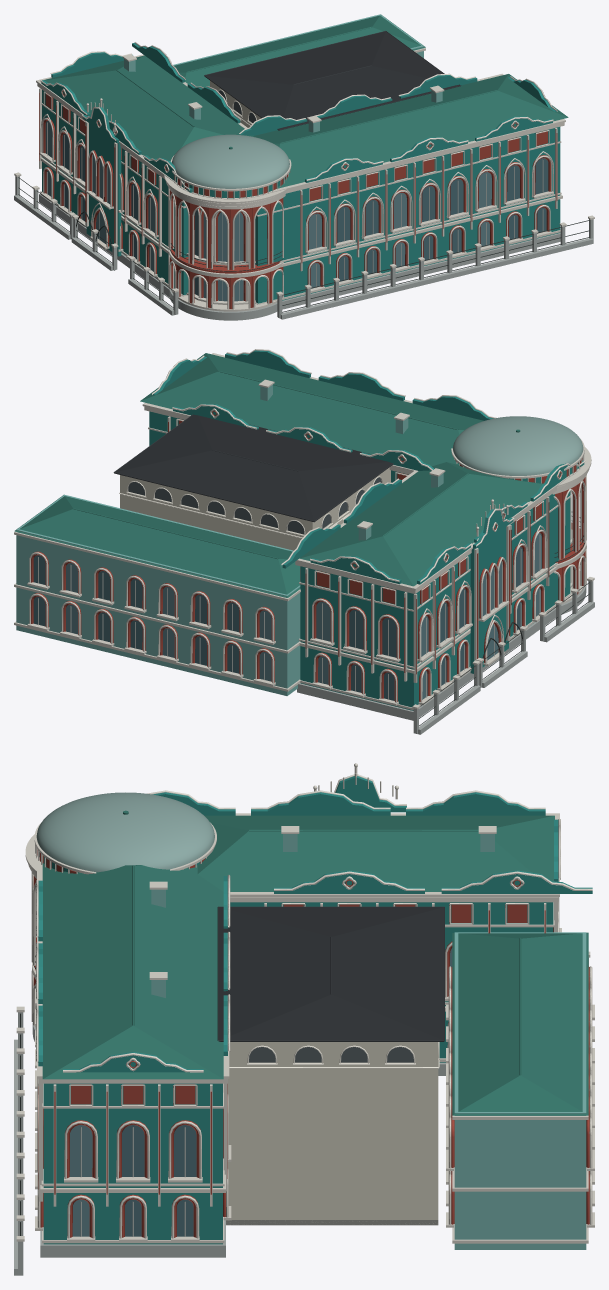
The model's file is sevastyanov-house-lod.glb.
3 renders of one model, top to bottom at view 1: azimuth 30°, elevation 25°; view 2: azimuth 150°, elevation 25°; view 3: azimuth 270°, elevation 25°, orthographic. The views are drawn at different scales.
Parts seen in each view (by area): view 1: SevastyanovExterior | Warm white | sculpted stucco, SevastyanovExterior | Malachite turquoise | painted masonry, SevastyanovExterior | Patinated turquoise | standing seam ro, SevastyanovExterior | Terracotta coral | recessed ornamental, SevastyanovModernHall | HALL | anthracite low pitch roof, SevastyanovExterior | Pale Ural granite | plinth, SevastyanovExterior | Blue grey | alternate reflection, SevastyanovExterior | Blue grey | architectural glazing, SevastyanovExterior | Grey green | rotunda metal dome, SevastyanovExterior | Graphite | wrought iron, SevastyanovExterior | Pale green | courtyard walls, SevastyanovModernHall | HALL | grey roof edge and seam caps (+1 smaller); view 2: SevastyanovExterior | Patinated turquoise | standing seam ro, SevastyanovExterior | Warm white | sculpted stucco, SevastyanovExterior | Malachite turquoise | painted masonry, SevastyanovExterior | Pale green | courtyard walls, SevastyanovModernHall | HALL | anthracite low pitch roof, SevastyanovExterior | Terracotta coral | recessed ornamental, SevastyanovExterior | Blue grey | architectural glazing, SevastyanovExterior | Grey green | rotunda metal dome, SevastyanovModernHall | HALL | pale cream mineral stucco, SevastyanovExterior | Pale Ural granite | plinth, SevastyanovExterior | Blue grey | alternate reflection, SevastyanovModernHall | HALL | recessed neutral grey glazing (+3 smaller); view 3: SevastyanovExterior | Patinated turquoise | standing seam ro, SevastyanovModernHall | HALL | pale cream mineral stucco, SevastyanovExterior | Malachite turquoise | painted masonry, SevastyanovModernHall | HALL | anthracite low pitch roof, SevastyanovExterior | Warm white | sculpted stucco, SevastyanovExterior | Pale green | courtyard walls, SevastyanovExterior | Grey green | rotunda metal dome, SevastyanovExterior | Terracotta coral | recessed ornamental, SevastyanovExterior | Pale Ural granite | plinth, SevastyanovExterior | Blue grey | architectural glazing, SevastyanovExterior | Blue grey | alternate reflection, SevastyanovModernHall | HALL | recessed neutral grey glazing (+3 smaller).
Part boxes in pixels (x1,y1,x2,y2): SevastyanovExterior | Warm white | sculpted stucco: (14, 42, 594, 311); SevastyanovExterior | Malachite turquoise | painted masonry: (41, 43, 560, 303); SevastyanovExterior | Patinated turquoise | standing seam ro: (44, 14, 568, 188); SevastyanovExterior | Terracotta coral | recessed ornamental: (39, 90, 557, 309); SevastyanovModernHall | HALL | anthracite low pitch roof: (204, 31, 459, 130); SevastyanovExterior | Pale Ural granite | plinth: (14, 176, 593, 320); SevastyanovExterior | Blue grey | alternate reflection: (45, 121, 491, 301); SevastyanovExterior | Blue grey | architectural glazing: (62, 133, 548, 281); SevastyanovExterior | Grey green | rotunda metal dome: (172, 134, 289, 188); SevastyanovExterior | Graphite | wrought iron: (18, 177, 589, 312); SevastyanovExterior | Pale green | courtyard walls: (124, 14, 442, 132); SevastyanovModernHall | HALL | grey roof edge and seam caps: (204, 31, 460, 130); SevastyanovExterior | Patinated turquoise | standing seam ro: (14, 353, 542, 597); SevastyanovExterior | Warm white | sculpted stucco: (14, 349, 594, 710); SevastyanovExterior | Malachite turquoise | painted masonry: (149, 350, 584, 710); SevastyanovExterior | Pale green | courtyard walls: (16, 384, 443, 695); SevastyanovModernHall | HALL | anthracite low pitch roof: (114, 414, 393, 522); SevastyanovExterior | Terracotta coral | recessed ornamental: (31, 410, 585, 701); SevastyanovExterior | Blue grey | architectural glazing: (33, 547, 523, 700); SevastyanovExterior | Grey green | rotunda metal dome: (453, 416, 583, 475); SevastyanovModernHall | HALL | pale cream mineral stucco: (120, 467, 390, 550); SevastyanovExterior | Pale Ural granite | plinth: (297, 581, 594, 734); SevastyanovExterior | Blue grey | alternate reflection: (66, 533, 541, 699); SevastyanovModernHall | HALL | recessed neutral grey glazing: (128, 477, 381, 534); SevastyanovExterior | Patinated turquoise | standing seam ro: (42, 810, 588, 1115); SevastyanovModernHall | HALL | pale cream mineral stucco: (226, 1042, 438, 1225); SevastyanovExterior | Malachite turquoise | painted masonry: (38, 776, 592, 1244); SevastyanovModernHall | HALL | anthracite low pitch roof: (219, 907, 444, 1041); SevastyanovExterior | Warm white | sculpted stucco: (16, 763, 594, 1243); SevastyanovExterior | Pale green | courtyard walls: (151, 834, 586, 1249); SevastyanovExterior | Grey green | rotunda metal dome: (36, 792, 214, 872); SevastyanovExterior | Terracotta coral | recessed ornamental: (33, 850, 589, 1237); SevastyanovExterior | Pale Ural granite | plinth: (14, 958, 588, 1275); SevastyanovExterior | Blue grey | architectural glazing: (122, 1125, 196, 1236); SevastyanovExterior | Blue grey | alternate reflection: (69, 948, 452, 1236); SevastyanovModernHall | HALL | recessed neutral grey glazing: (249, 1047, 413, 1062).
Bounding box in the file's own units: 41.54 × 15.71 × 35.33.
